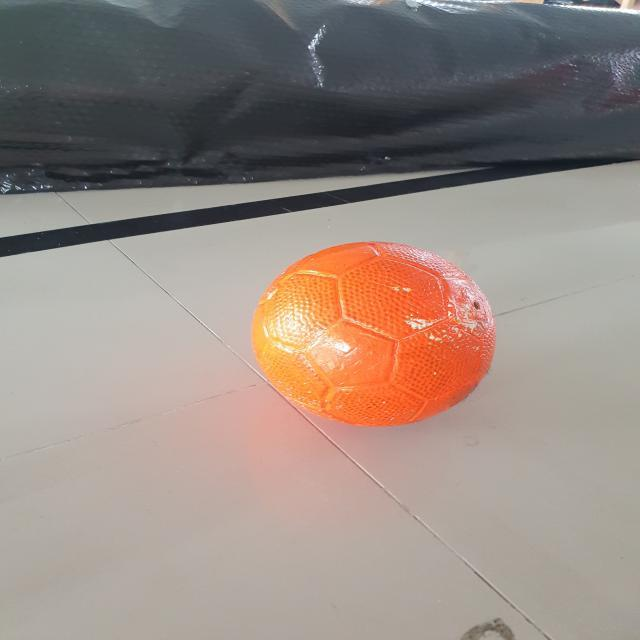bola: (247, 236, 507, 431)
